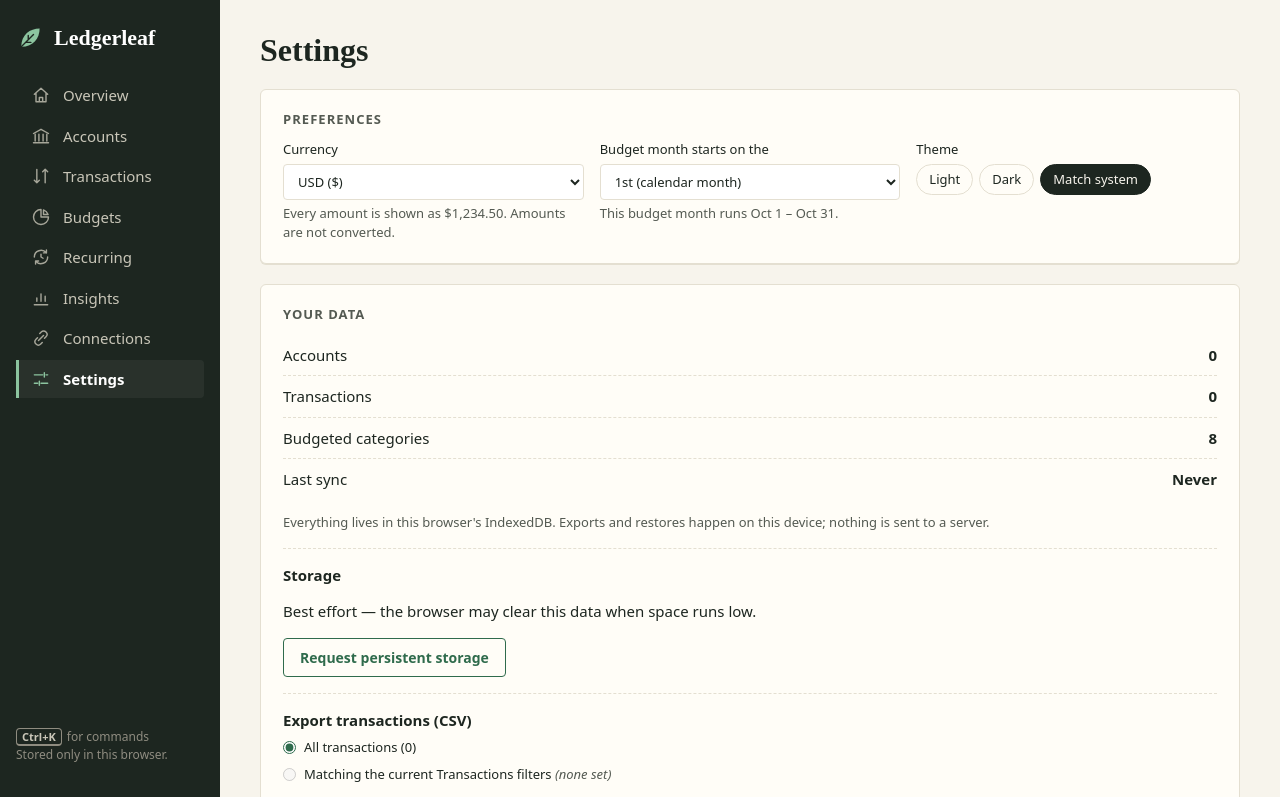
Test: Settings storage › says so when the browser declines
Click the button "Request persistent storage". click: (394, 657)
box: top-left (283, 638), bottom-right (506, 676)
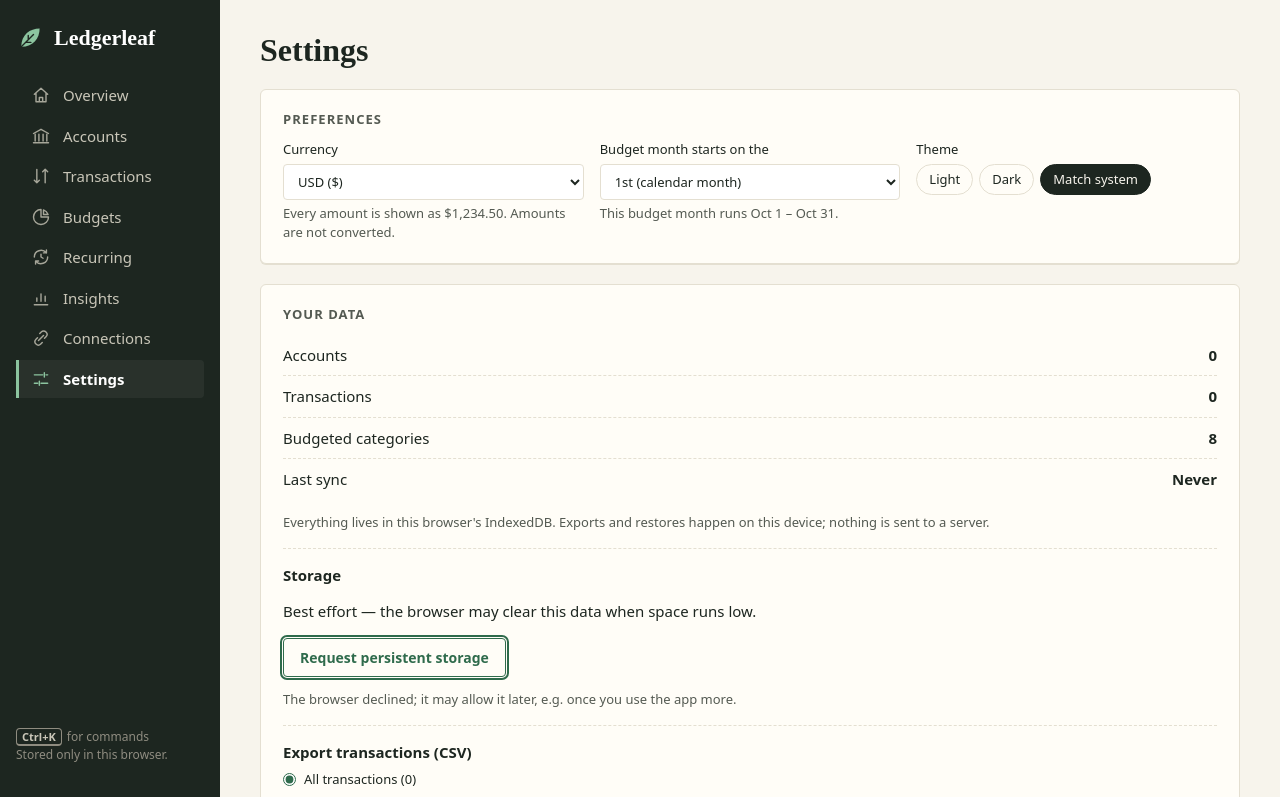
Expected: the text "Best effort" is shown, top-left (283, 601), bottom-right (756, 621)
Expected: the message shows "The browser declined", top-left (283, 690), bottom-right (736, 708)
